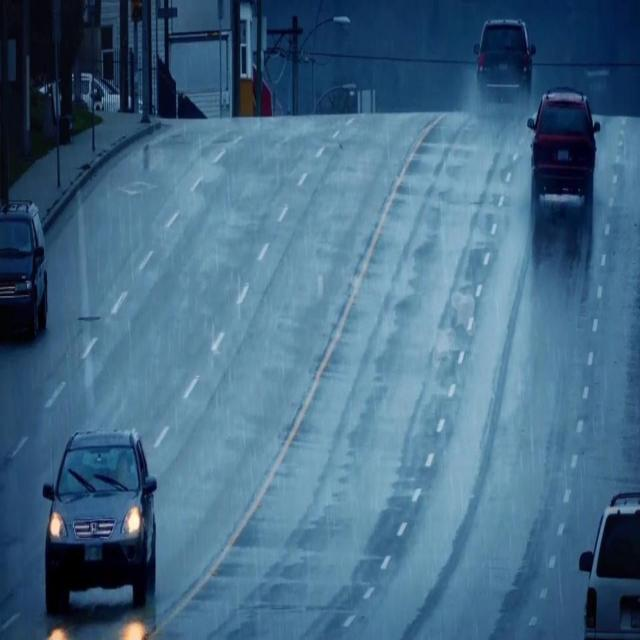Car: (44, 408, 160, 610), (520, 78, 600, 230), (571, 484, 640, 640), (0, 184, 53, 342), (36, 57, 135, 136), (473, 10, 537, 104)
